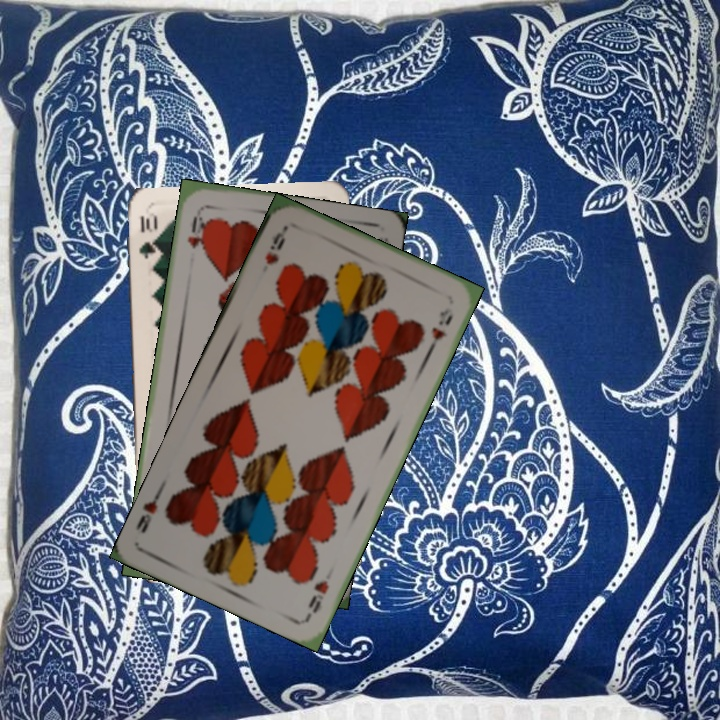G10: (135, 211, 159, 261)
H9: (303, 576, 332, 620), (261, 224, 290, 267)
HO: (184, 212, 210, 252)
